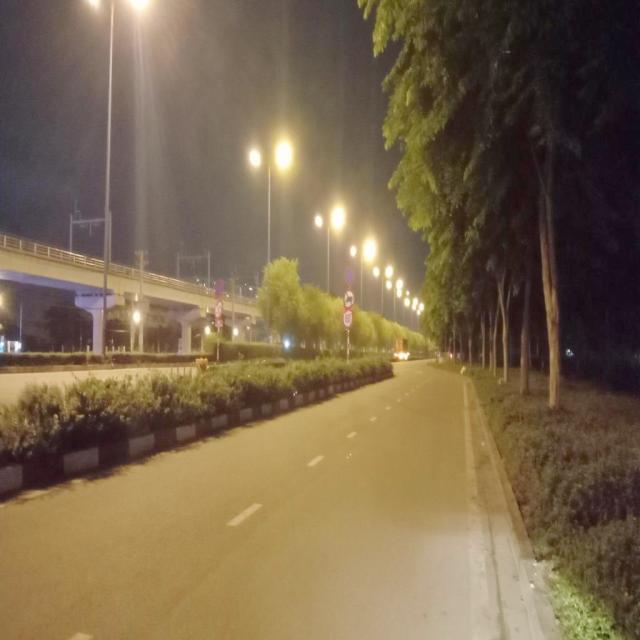cam_dung_xe_va_do_xe: (343, 266, 355, 290), (214, 278, 227, 300)
cam_o_to_tai: (342, 288, 356, 310)
cam_xe_2_banh_va_xe_3_banh_co_dong_co: (214, 300, 224, 320)
toc_do_toi_da_60: (342, 306, 355, 331)
